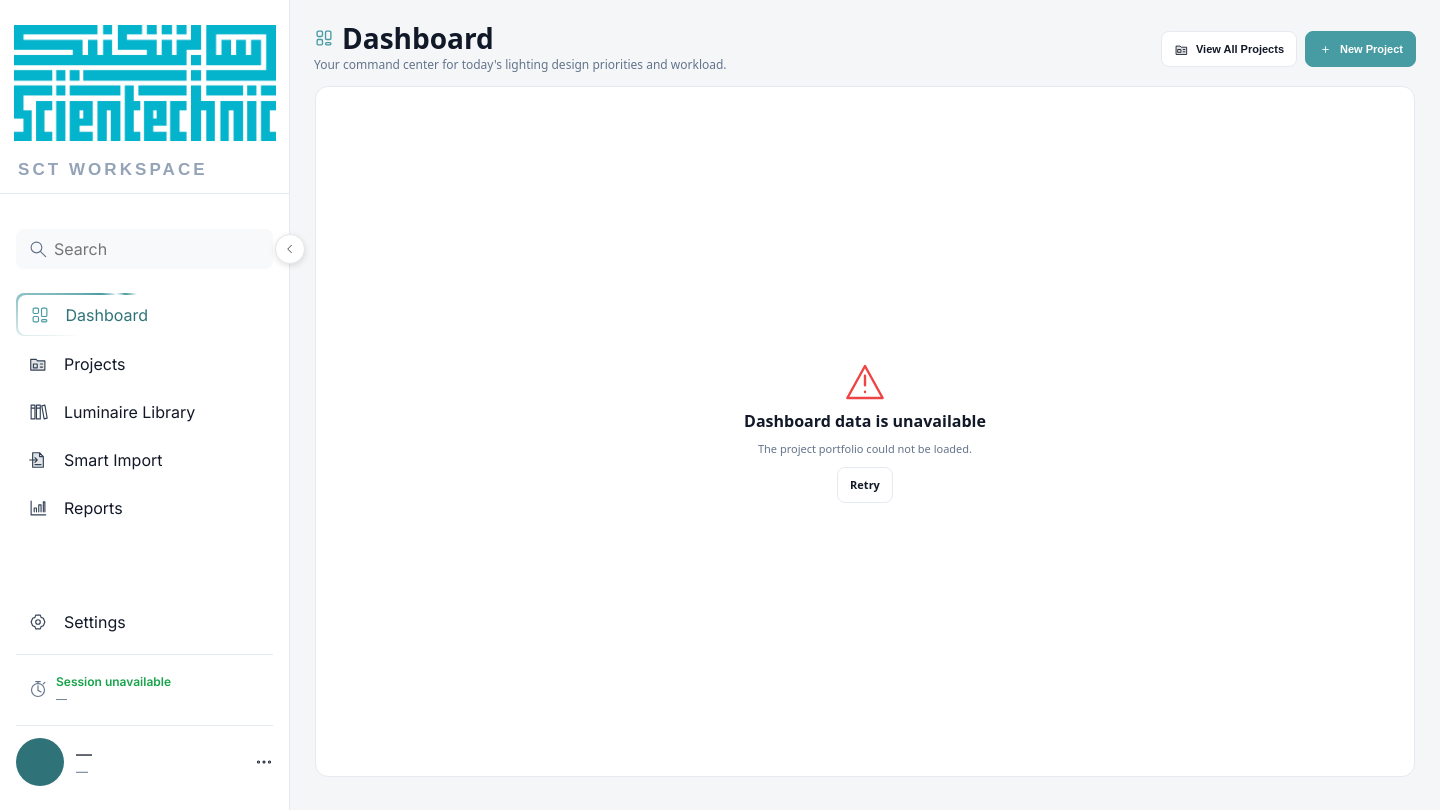
Test: DashboardPage › shows bounded project loading and error states with retry
Expected: the message shows "Dashboard data is unavailable", [744,410,986,432]
Step 1. Click the button "Retry" → (865, 484), box [837,466,893,502]
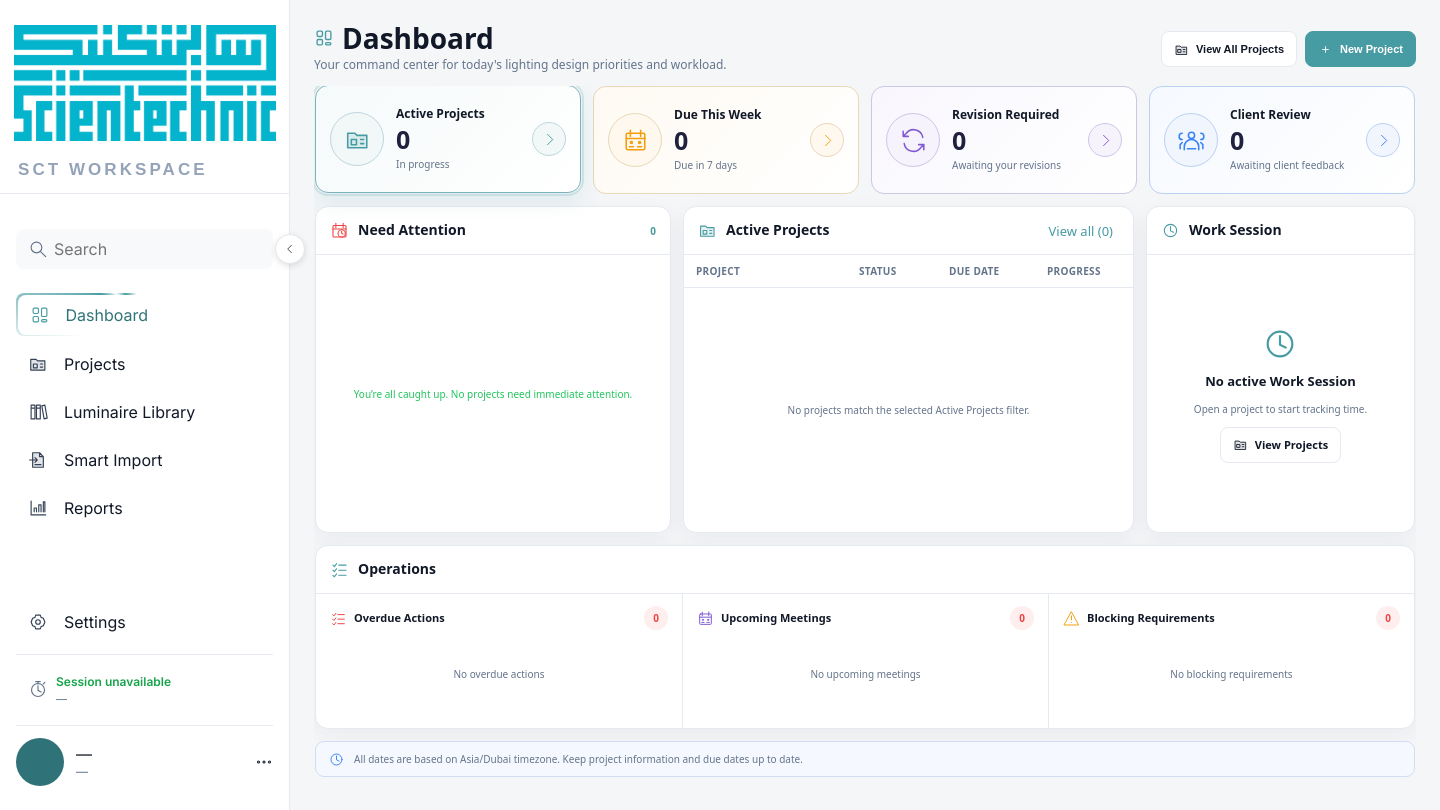
Expected: the element named "Dashboard project filters" is shown, [315,86,1415,194]
